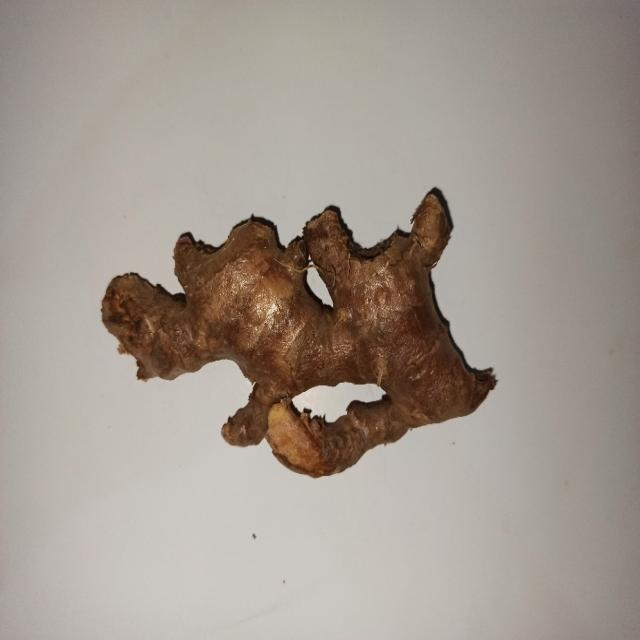ginger: (105, 205, 484, 474)
